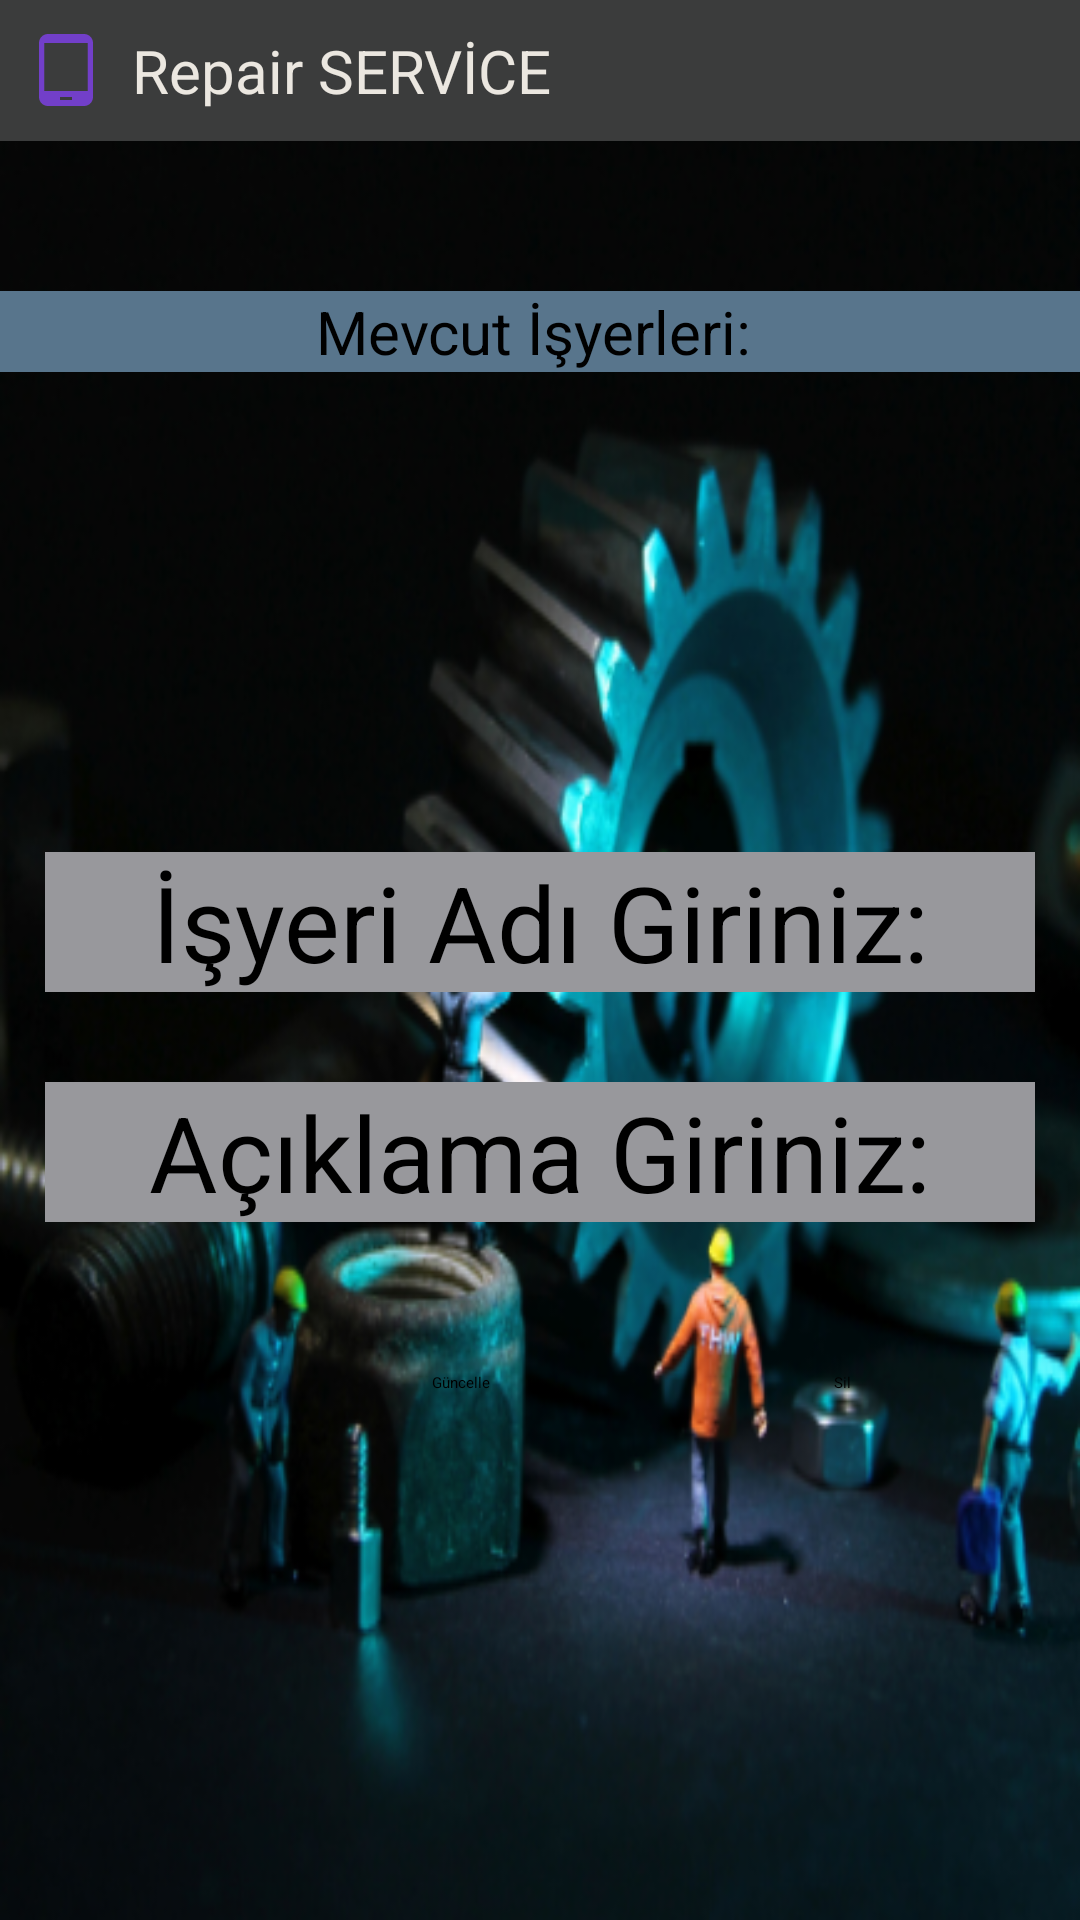

Point at icon controls on the screen. Image size 1080×1920, points as (x=x, y=y).
tablet android: (x=66, y=70)
